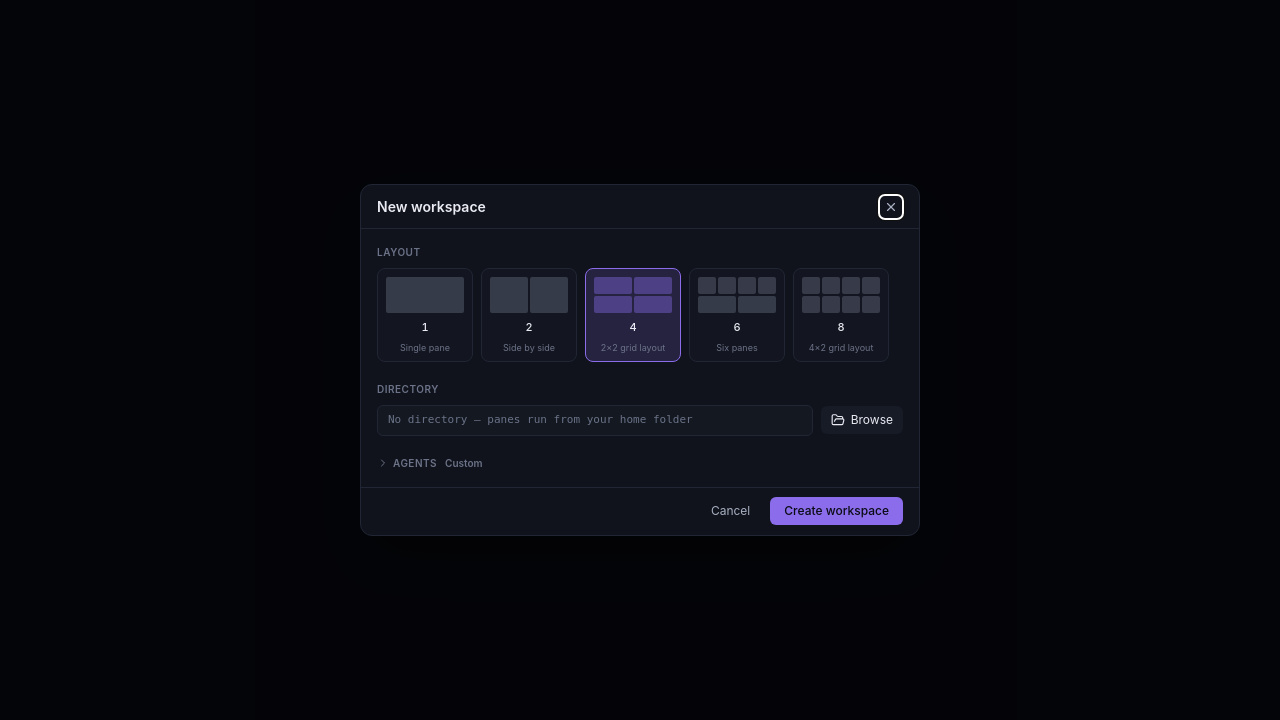
Test: agents › still offers it when the stored default is Custom
The image size is (1280, 720).
Step 1. Click the button "Agents Custom" → (415, 463), box top-left (377, 456), bottom-right (903, 471)
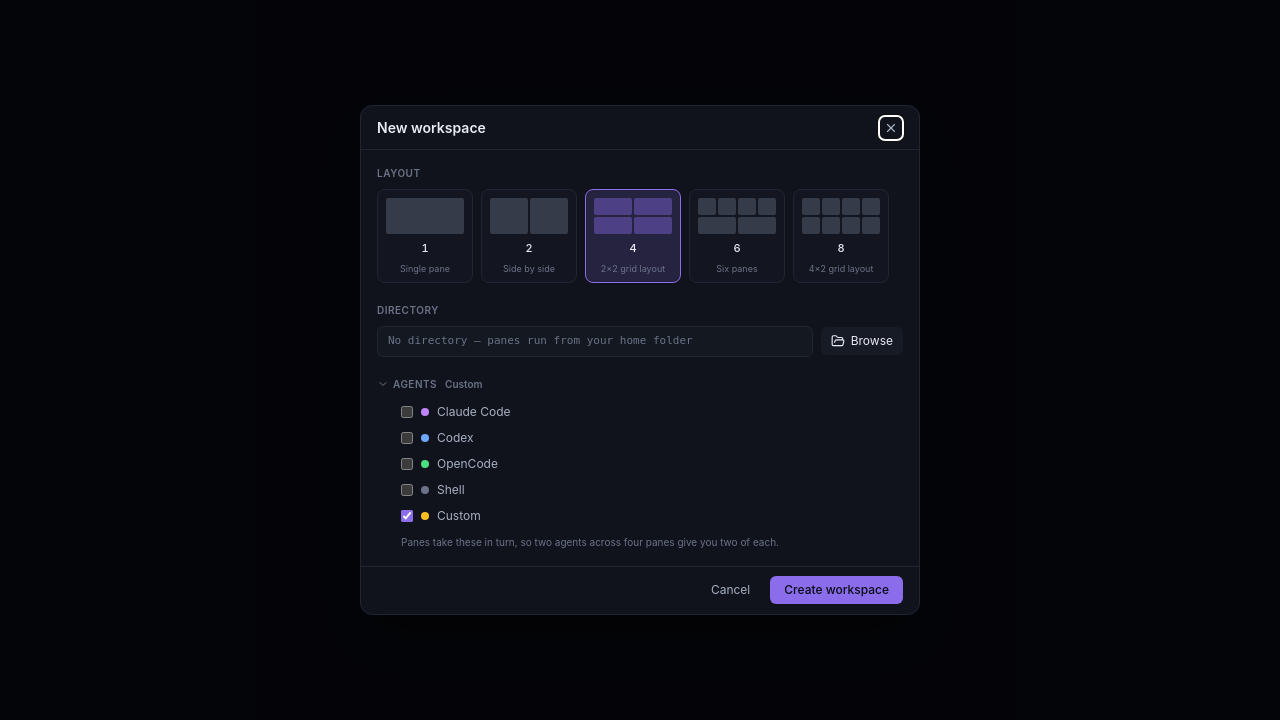
Check: the checkbox labelled "Custom" is checked, box top-left (401, 510), bottom-right (413, 522)
